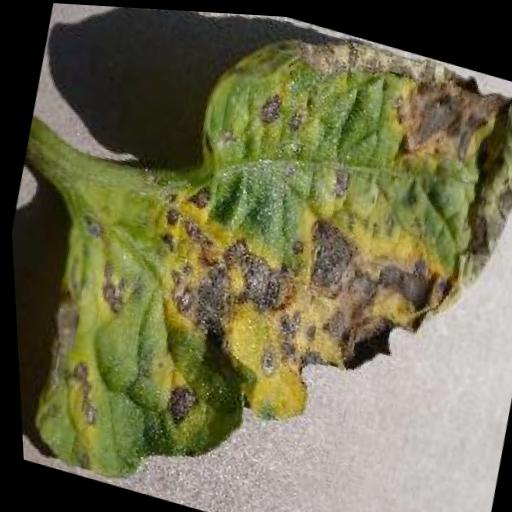Early Blight: (5, 0, 512, 512)
